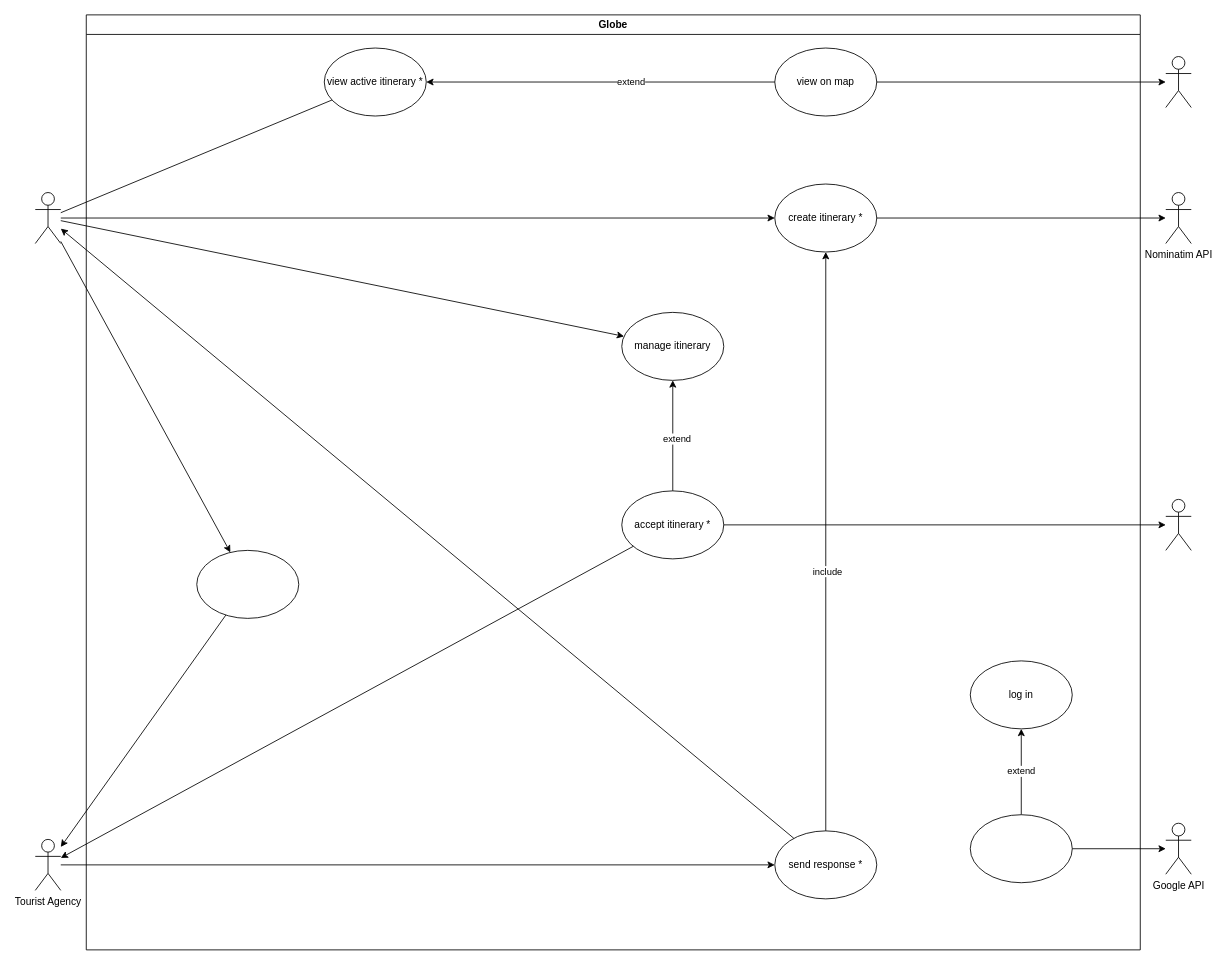
The diagram is 1227 pixels wide and 965 high, and some of its shapes have lost their labels. Each missing label, with the box of its shape:
Google Maps API: (1165, 56, 1191, 108)
log in via Google: (969, 814, 1072, 883)
Paypal API: (1165, 499, 1191, 550)
request itinerary *: (196, 550, 299, 618)
User: (34, 192, 61, 244)
